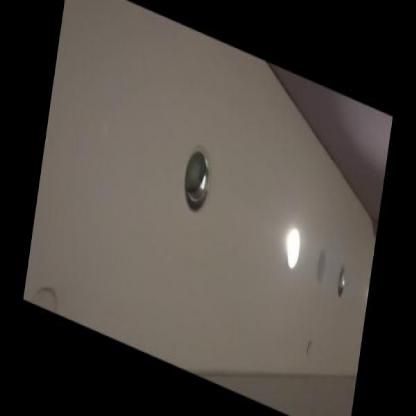light_off: (172, 121, 219, 223), (332, 242, 354, 314)
